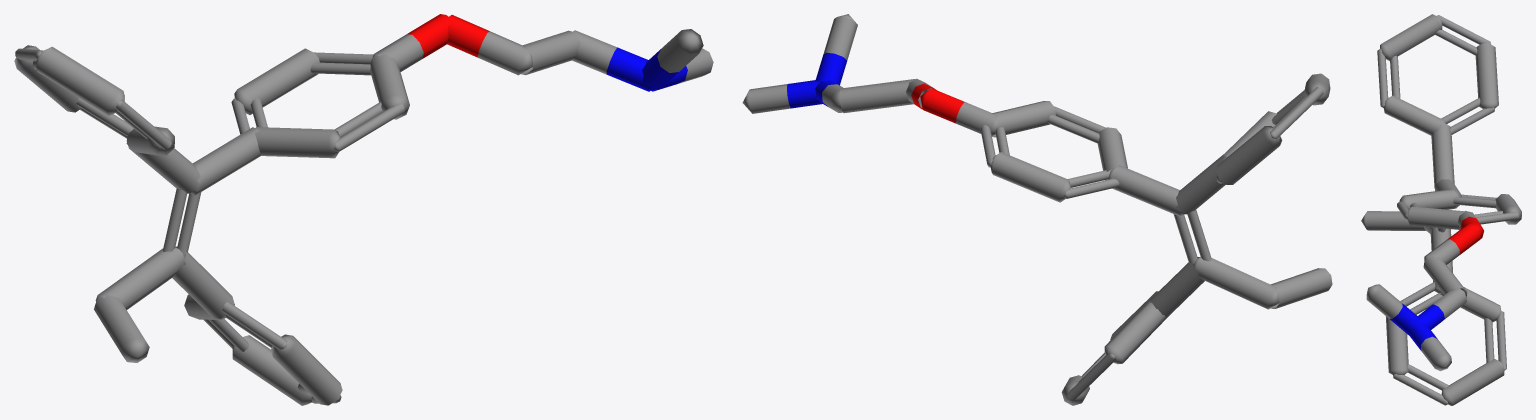
Rendered from tamoxifen.glb.
3 renders of one model, left to right at view 1: azimuth 30°, elevation 25°; view 2: azimuth 150°, elevation 25°; view 3: azimuth 270°, elevation 25°, orthographic. The views are drawn at different scales.
Visible parts, largest first — view 1: node-geom7, node-geom0, node-geom4; view 2: node-geom7, node-geom4, node-geom0; view 3: node-geom7, node-geom4, node-geom0.
Boxes of the visible parts, x1,y1,x2,y2 form: node-geom7: (14, 29, 713, 405); node-geom0: (407, 14, 489, 58); node-geom4: (606, 47, 687, 91); node-geom7: (742, 14, 1332, 405); node-geom4: (787, 52, 846, 108); node-geom0: (911, 83, 965, 123); node-geom7: (1361, 14, 1521, 405); node-geom4: (1390, 303, 1444, 350); node-geom0: (1447, 216, 1483, 254).
Size of the model in its own units: 13.32 by 8.08 by 3.93.
